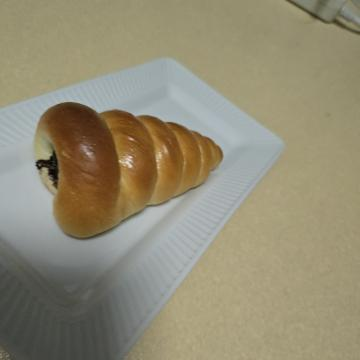cream horn: (87, 123, 252, 339)
